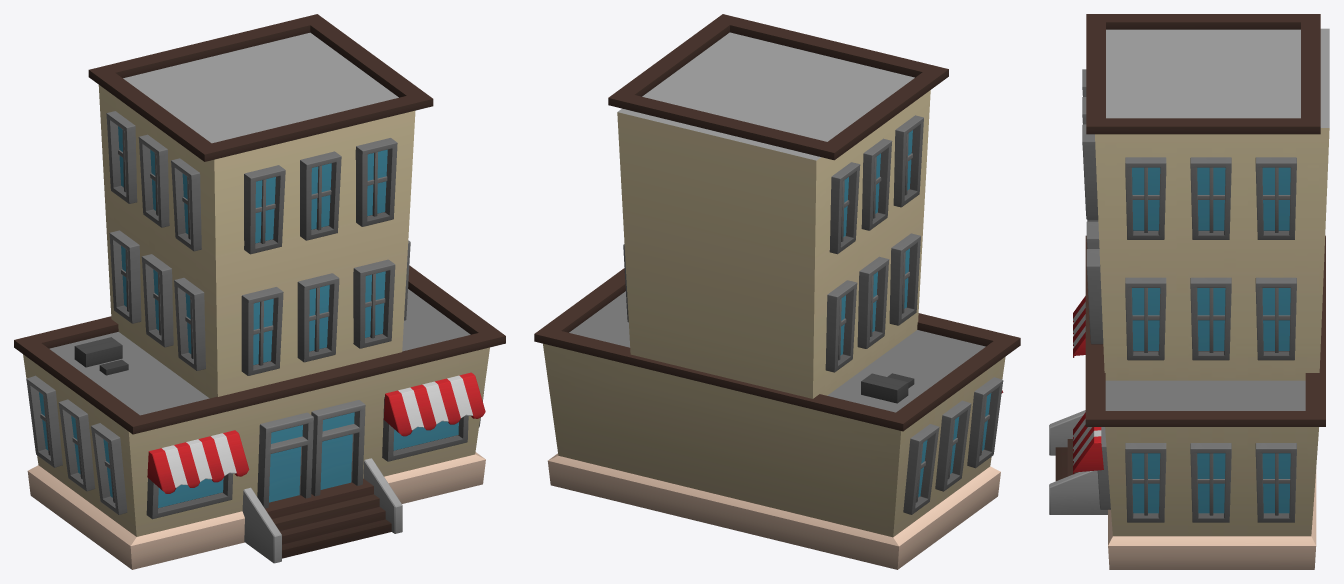
File: building_01.fbx
The picture shows the model from 3 angles, left to right: view 1: azimuth 30°, elevation 25°; view 2: azimuth 150°, elevation 25°; view 3: azimuth 270°, elevation 25°; orthographic projection. The views are drawn at different scales.
Visible parts, largest first — view 1: Building_01; view 2: Building_01; view 3: Building_01.
Part boxes in pixels (bbox=[...]): Building_01: bbox=[14, 14, 505, 569]; Building_01: bbox=[534, 14, 1020, 569]; Building_01: bbox=[1049, 14, 1329, 569].
Bounding box in the file's own units: 773 × 797 × 490.
